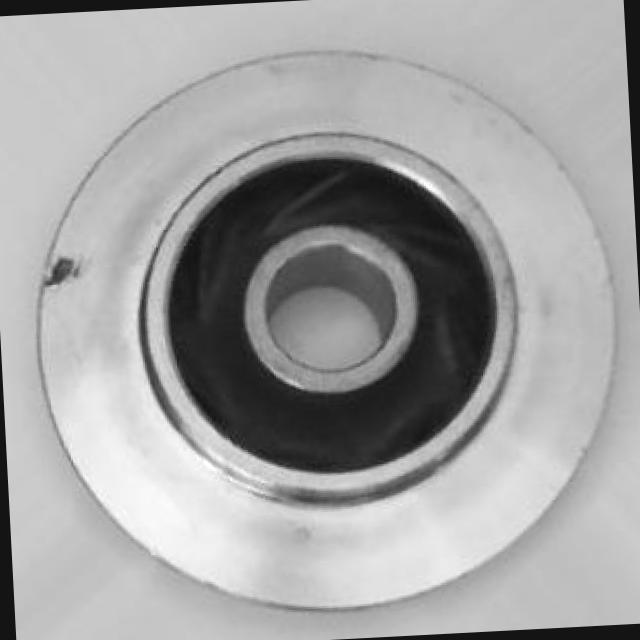Defect: (42, 252, 94, 307)
